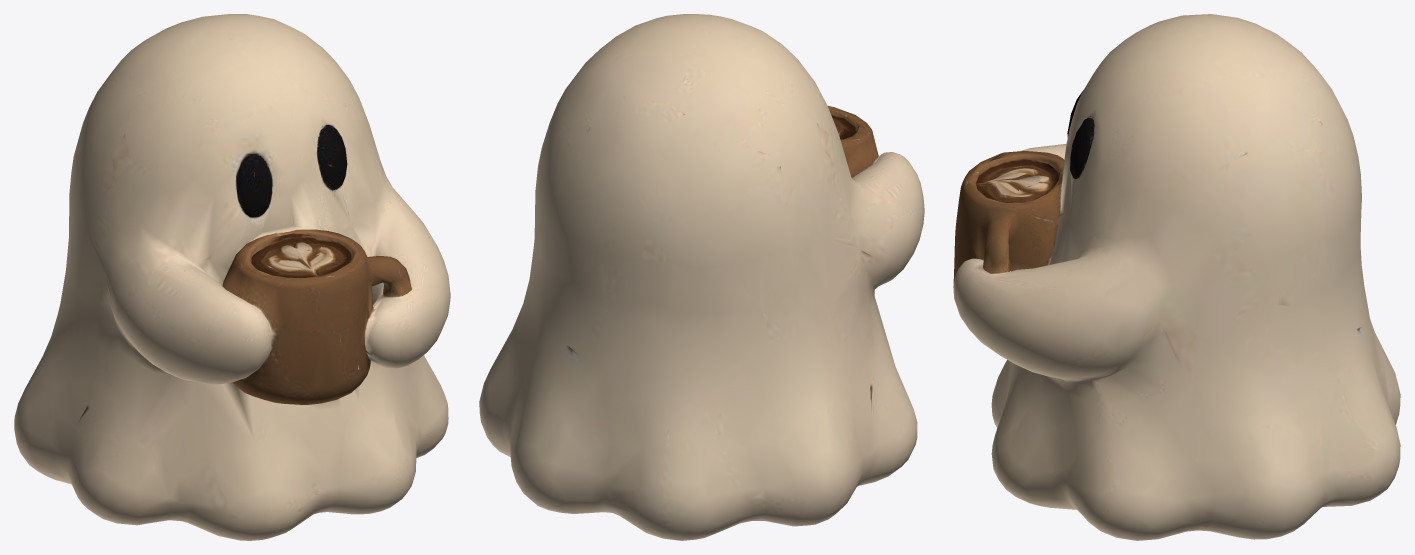
File: boo_brew.glb
3 views of the same model, side by side, from view 1: azimuth 30°, elevation 25°; view 2: azimuth 150°, elevation 25°; view 3: azimuth 270°, elevation 25° (orthographic).
Size of the model in its own units: 0.861 by 1 by 0.9209.
Materials: 1 (1 with a texture image).
